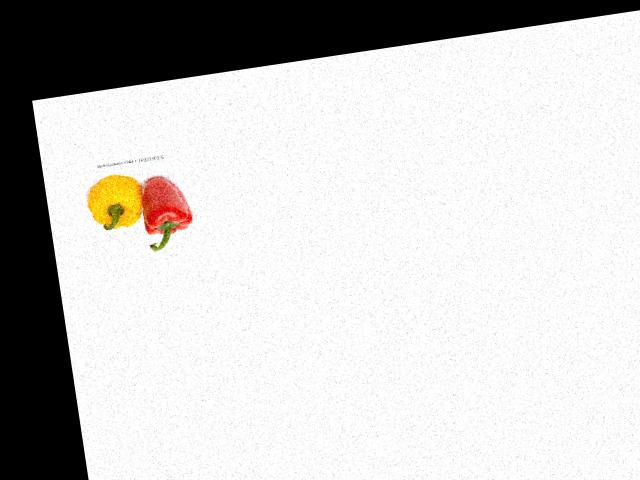bell_pepper: (80, 166, 149, 237)
